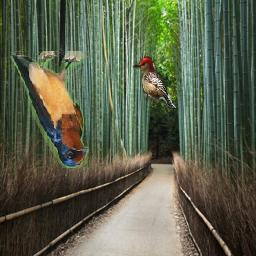Swallow: (10, 52, 88, 169)
Woodpecker: (132, 55, 176, 109)
